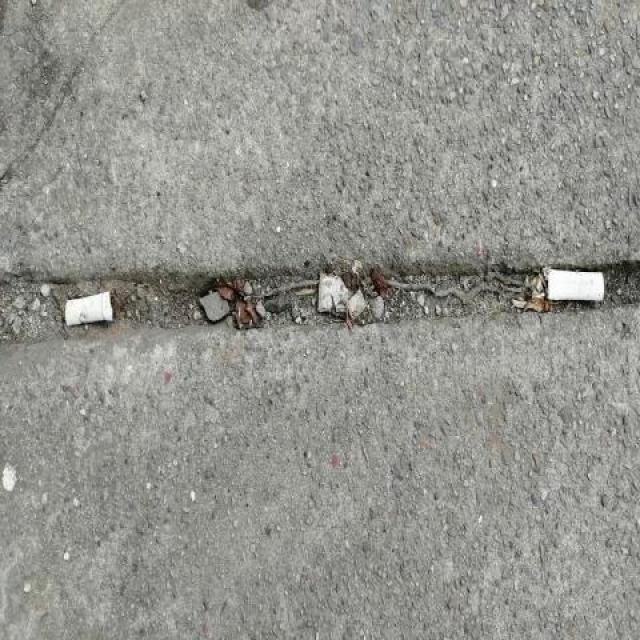non-organic waste: (62, 285, 118, 331), (543, 268, 609, 304)
